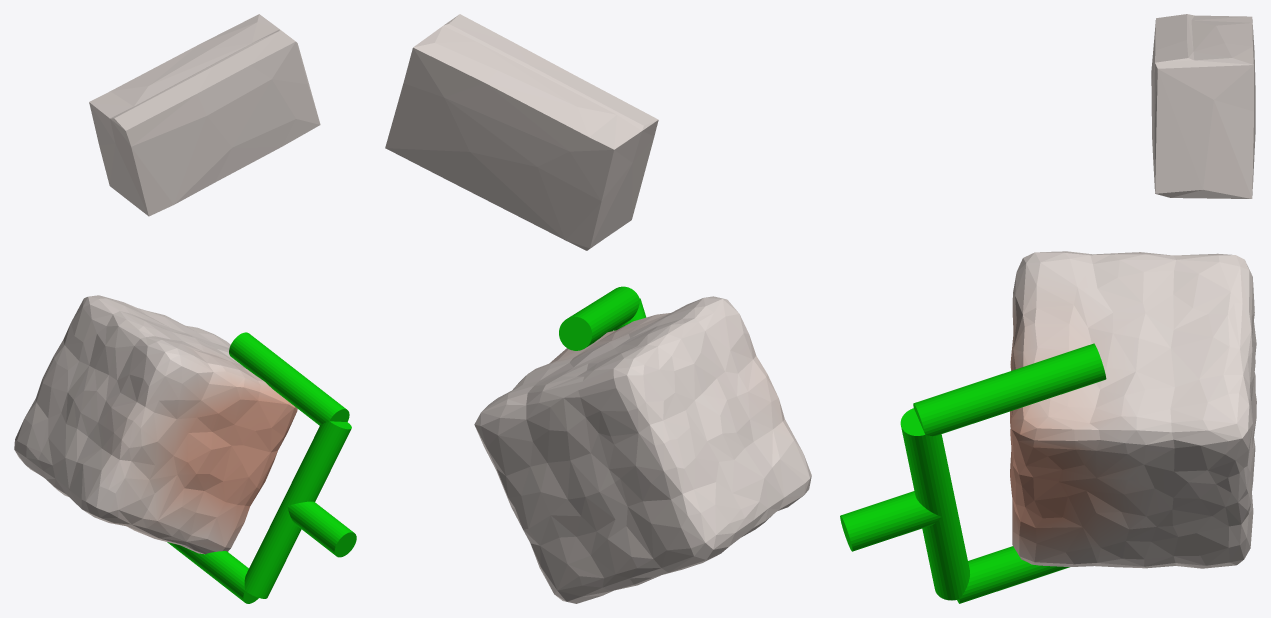
File: round_000_trial_002.obj
3 renders of one model, left to right at view 1: azimuth 30°, elevation 25°; view 2: azimuth 150°, elevation 25°; view 3: azimuth 270°, elevation 25°, orthographic. The views are drawn at different scales.
Parts seen in each view (by area): view 1: geometry_0, geometry_1; view 2: geometry_0, geometry_1; view 3: geometry_0, geometry_1.
Part boxes in pixels (<box>): geometry_0: <box>14,14,320,554</box>; geometry_1: <box>167,332,356,603</box>; geometry_0: <box>385,14,811,603</box>; geometry_1: <box>559,286,646,350</box>; geometry_0: <box>1010,14,1256,568</box>; geometry_1: <box>840,343,1106,603</box>.
Size of the model in its own units: 0.1093 by 0.1784 by 0.1091.
